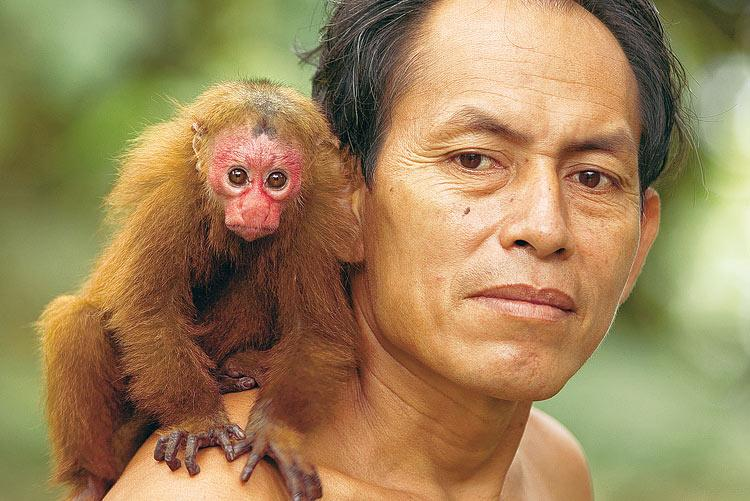monkey: (105, 80, 367, 457)
